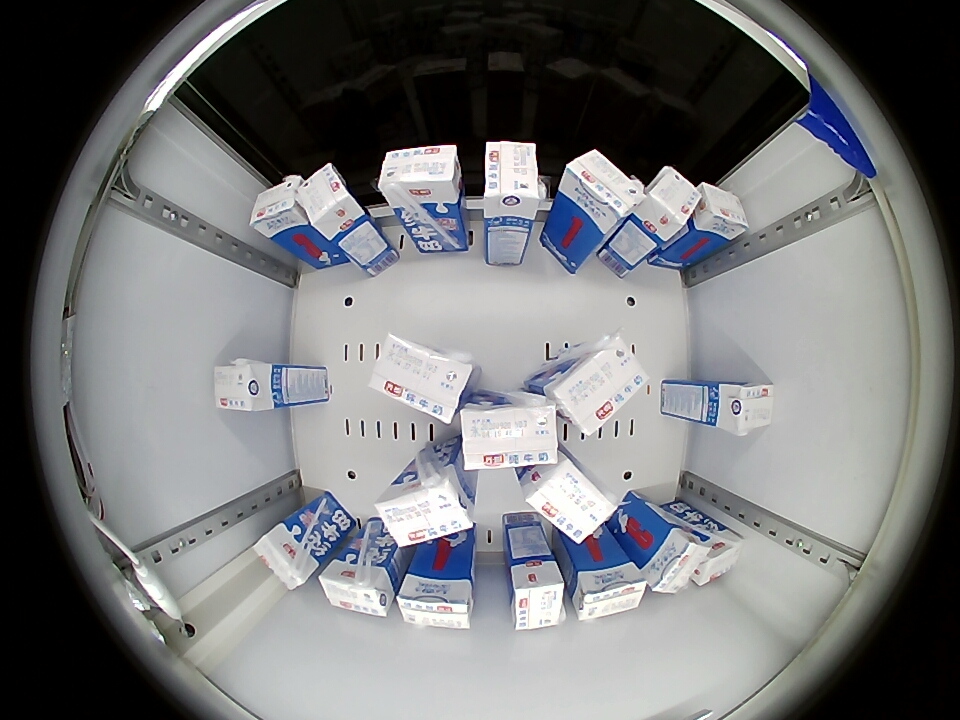niunai: (551, 331, 652, 439), (368, 332, 476, 424), (521, 458, 617, 547), (374, 470, 474, 549), (460, 398, 560, 471), (560, 149, 646, 230), (378, 144, 462, 212), (293, 164, 359, 241), (570, 558, 648, 623), (319, 554, 397, 618), (252, 518, 318, 591), (396, 570, 475, 630), (644, 525, 710, 595), (483, 140, 541, 218), (642, 166, 699, 240), (250, 172, 311, 241), (509, 558, 566, 631), (685, 525, 744, 587), (692, 181, 749, 244), (713, 381, 775, 436), (214, 359, 275, 412)
